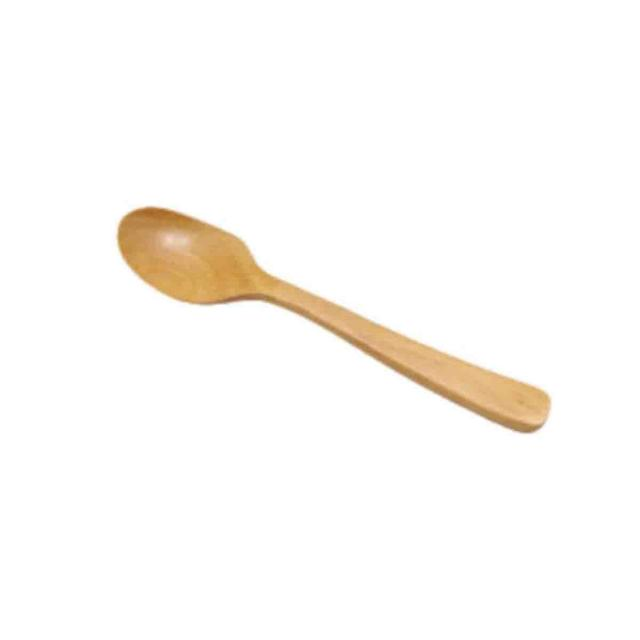spoon: (118, 190, 558, 454)
